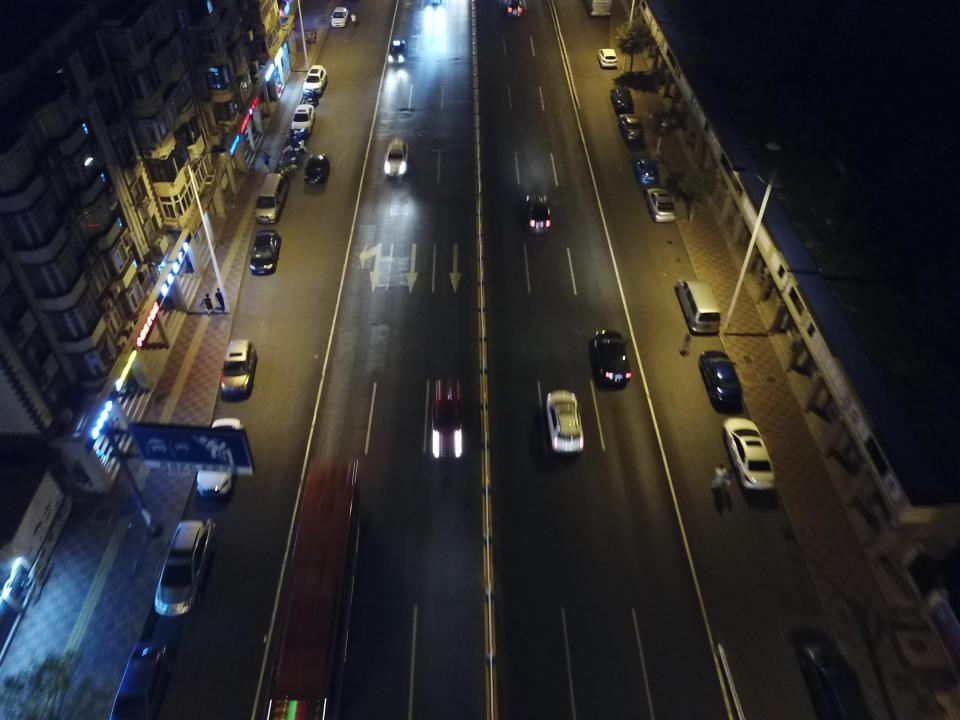car: (789, 627, 869, 718), (154, 516, 215, 615), (109, 639, 171, 720), (721, 416, 777, 493), (194, 418, 245, 500), (426, 379, 464, 458), (698, 348, 744, 412), (546, 389, 586, 453), (216, 339, 257, 399), (591, 329, 631, 387), (250, 228, 281, 276), (524, 191, 552, 232), (645, 185, 675, 222), (384, 136, 410, 178), (304, 153, 331, 191), (619, 112, 645, 146), (632, 155, 660, 186), (301, 64, 329, 92), (610, 86, 634, 112), (292, 103, 314, 130), (596, 48, 616, 69), (330, 6, 348, 28), (388, 40, 406, 62), (506, 0, 524, 19), (592, 0, 610, 17)
van: (674, 278, 722, 336), (255, 171, 286, 223)
